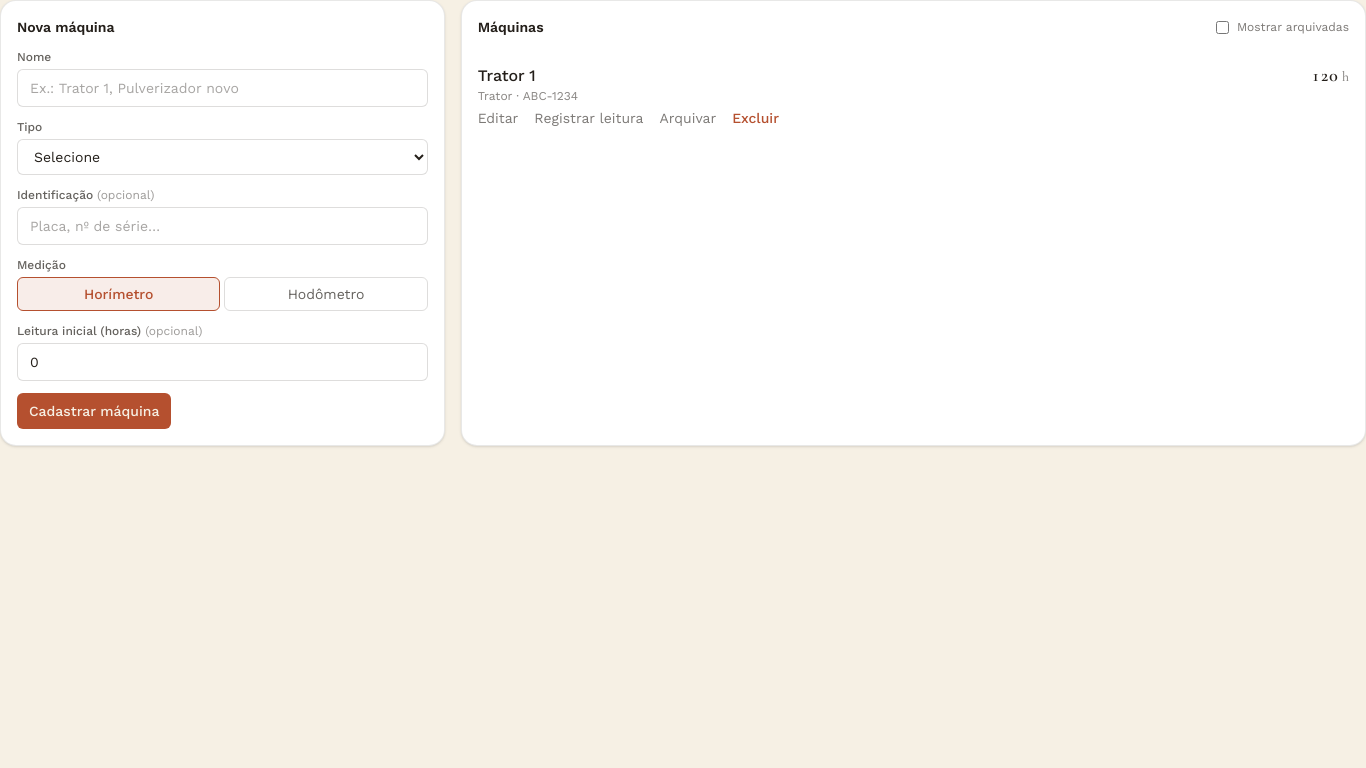
Test case: MachinesTab › mostra o erro do servidor quando a exclusão é bloqueada por uso
Click the button "Excluir".
click(756, 118)  # box [732,108,779,128]
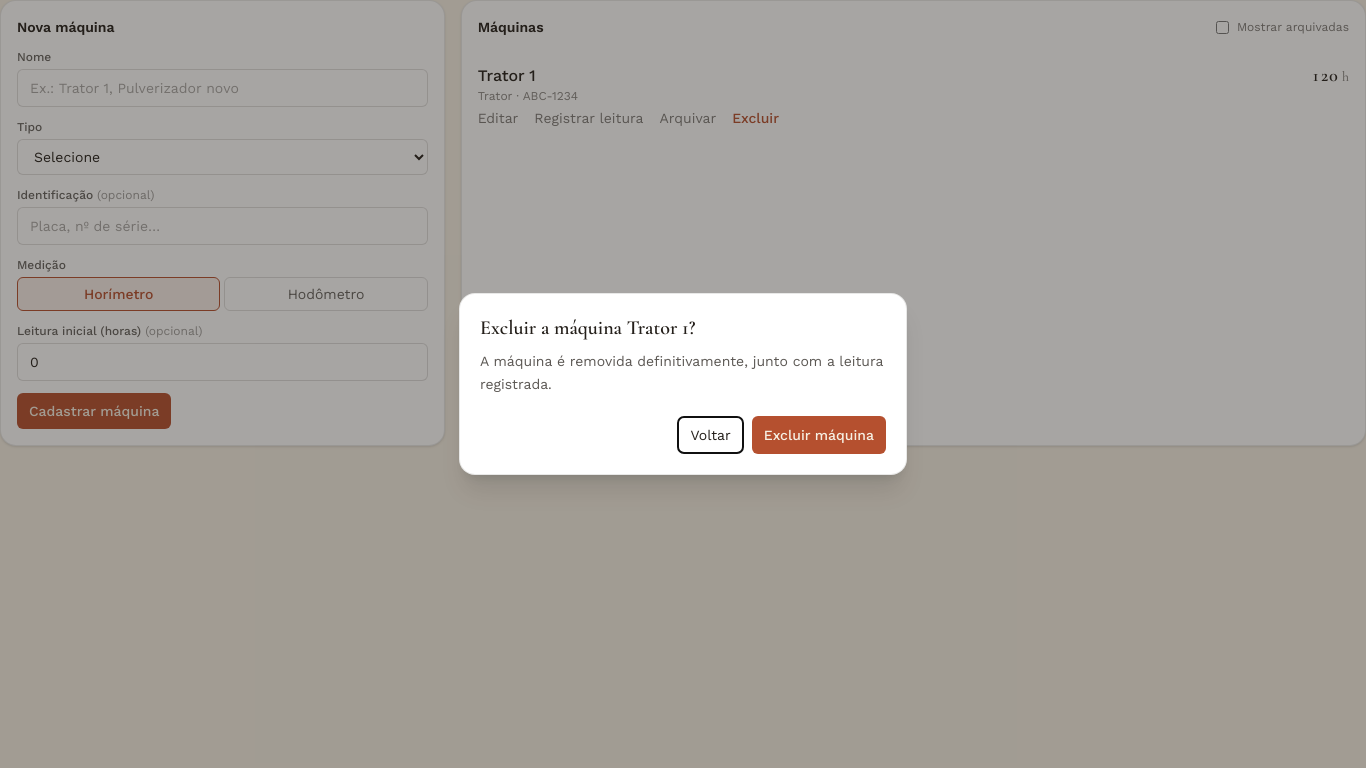
Click the button "Excluir máquina".
click(819, 435)  # box [752,416,886,454]
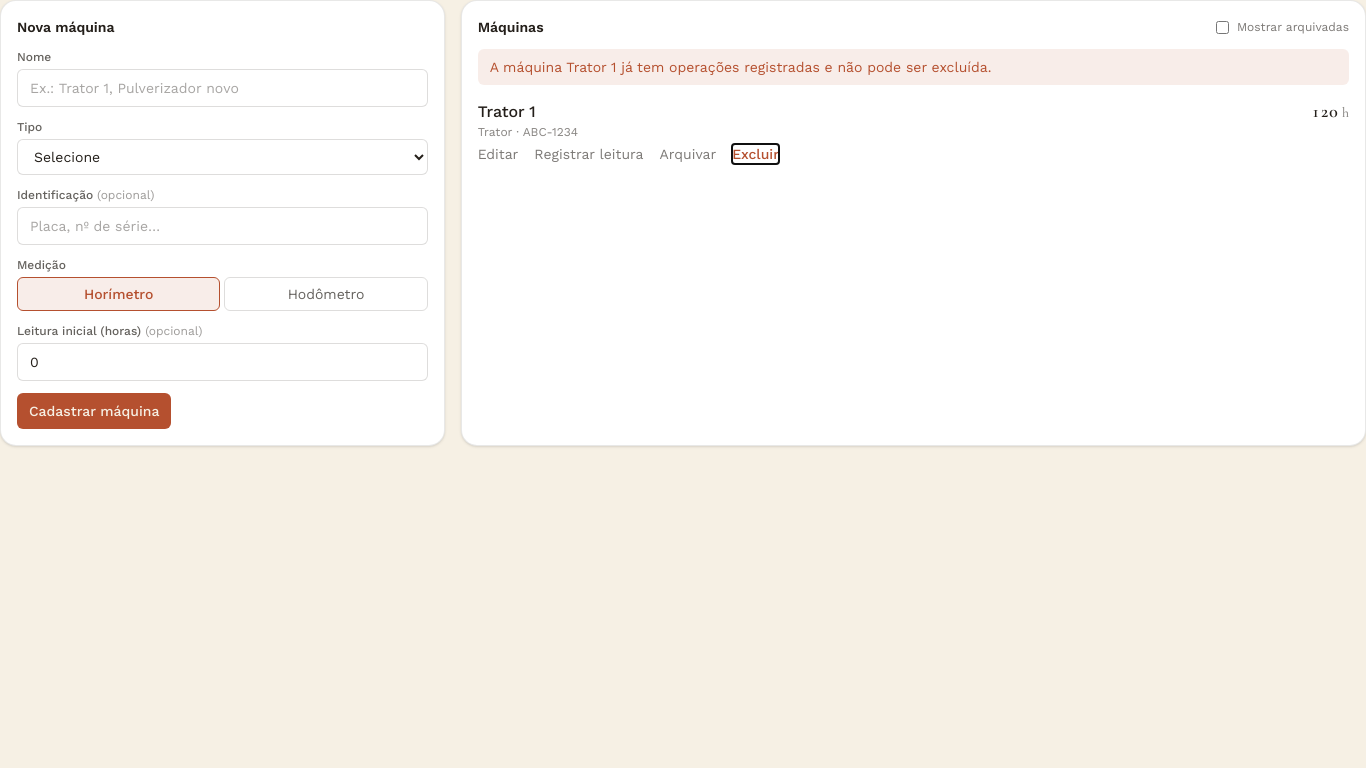
Expected: the text "A máquina Trator 1 já tem operações registradas e não pode ser excluída." is shown, [478,49,1349,85]
